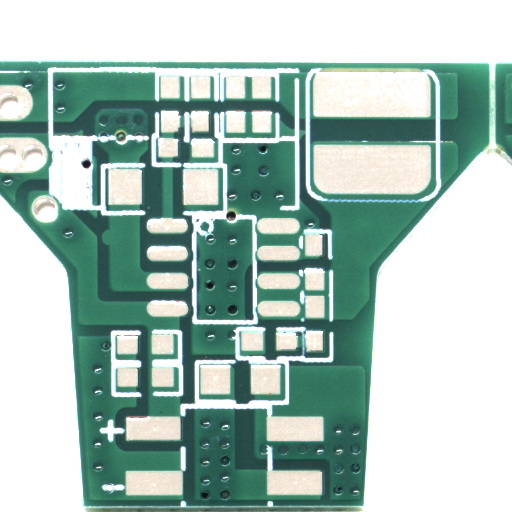Spur: (105, 236, 116, 250)
